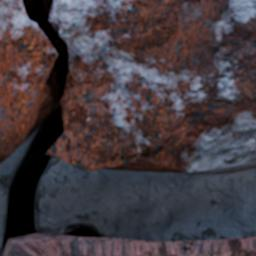brick: (2, 234, 255, 255)
broken_brick: (48, 0, 255, 174), (0, 0, 55, 164)
crack: (0, 0, 70, 254), (62, 222, 102, 238)
